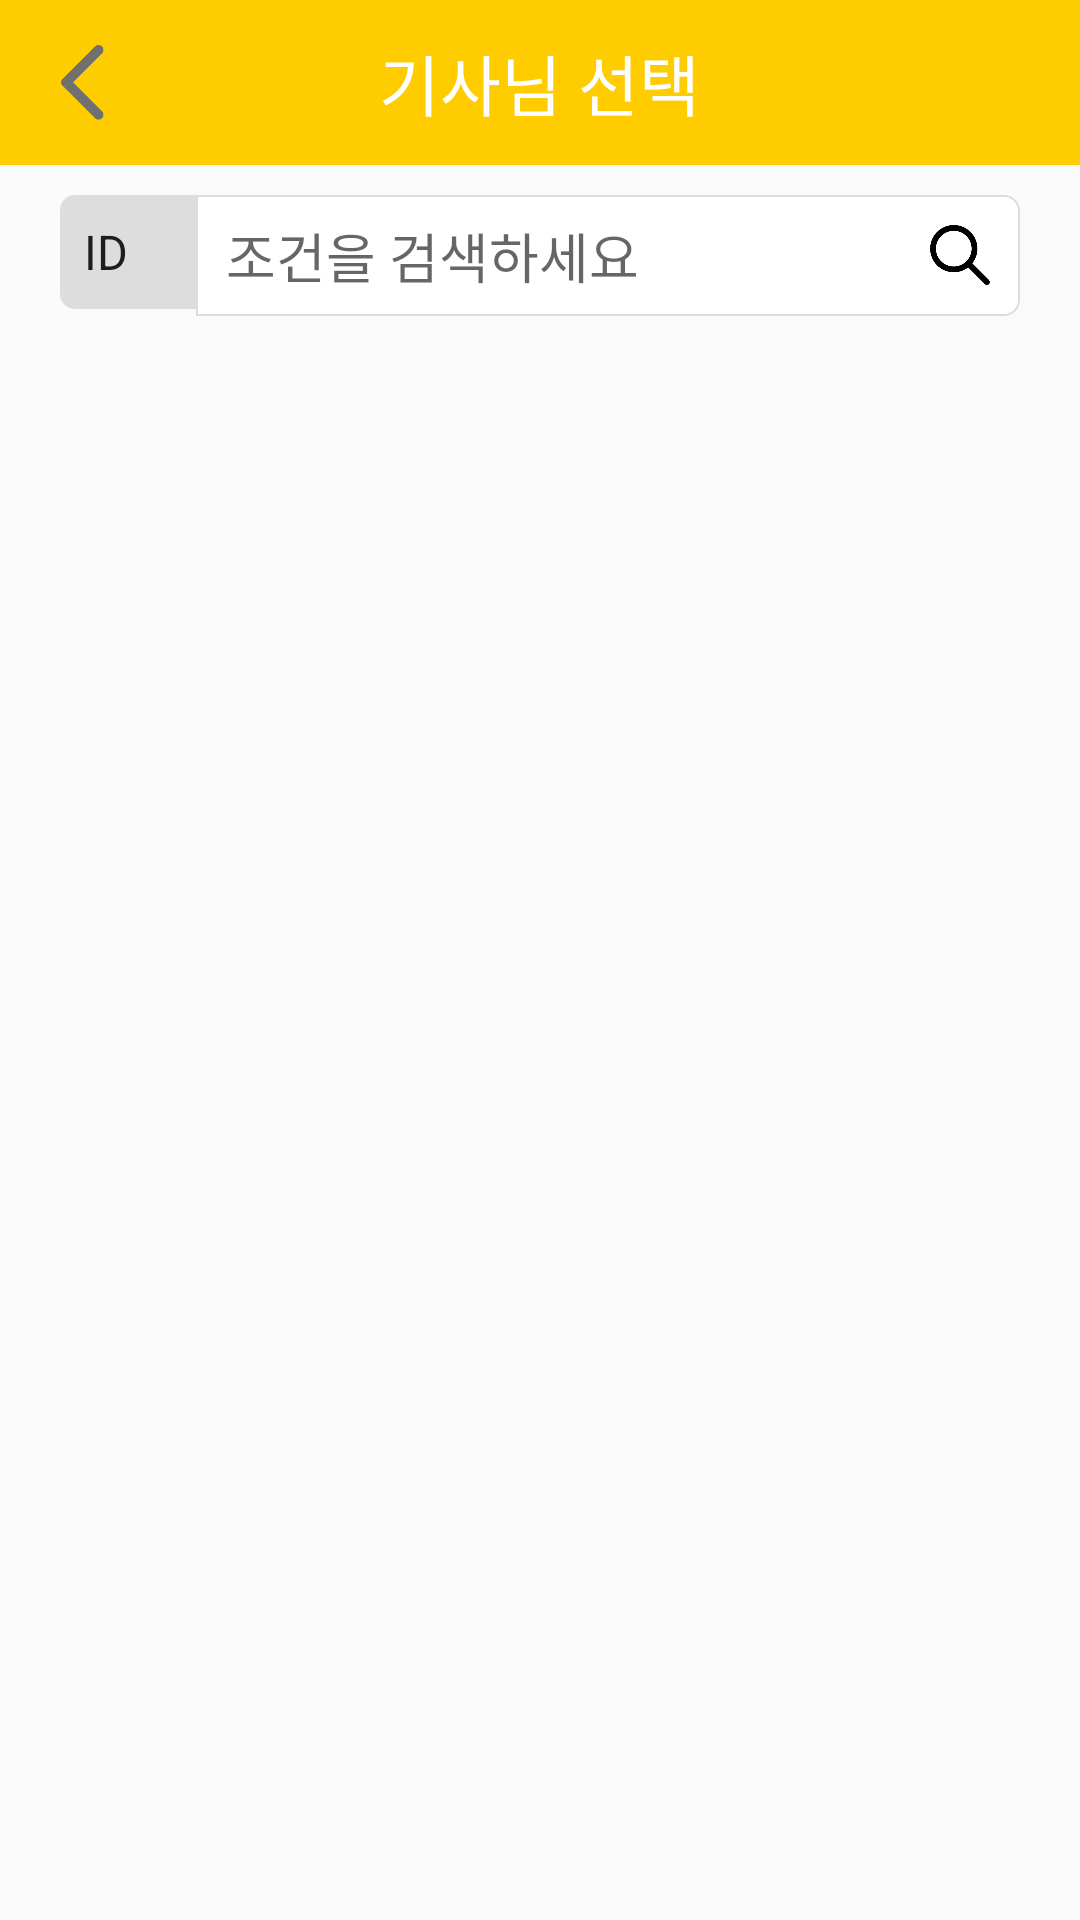

Icons on this 1080w x 1920h Android screen, each with its box as (x1, y1, x2, y2):
left: (61, 45, 104, 120)
search: (930, 225, 990, 285)
